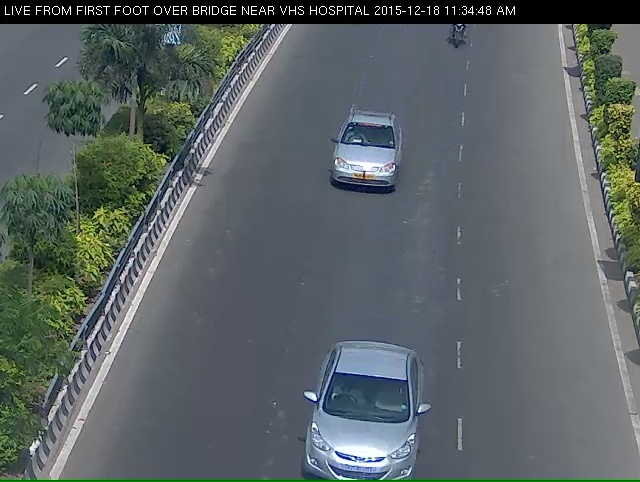Car: (285, 358, 433, 482), (329, 102, 408, 220)
Person: (444, 21, 479, 65)
